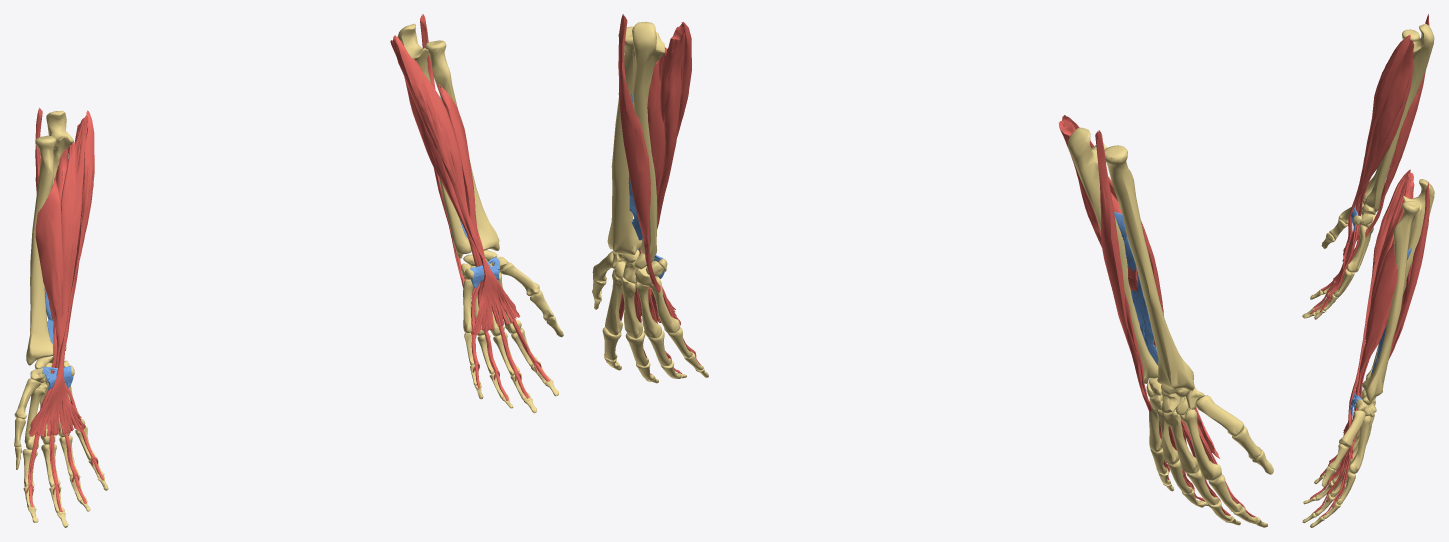
3 views of the same model, side by side, from view 1: azimuth 30°, elevation 25°; view 2: azimuth 150°, elevation 25°; view 3: azimuth 270°, elevation 25° (orthographic). The views are drawn at different scales.
Visible parts, largest first — view 1: wrist-hand:finger-flexors:isa:FJ1475, wrist-hand:palmaris-longus:isa:FJ1502M, wrist-hand:finger-flexors:isa:FJ1475M, wrist-hand:palmaris-longus:isa:FJ1502, wrist-hand:radius:isa:FJ3349, wrist-hand:finger-flexors:isa:FJ1499, wrist-hand:radius:isa:FJ3277, elbow-forearm:ulna:isa:FJ3286, wrist-hand:finger-flexors:isa:FJ1499M, wrist-hand:finger-flexors:isa:FJ1497, wrist-hand:finger-flexors:isa:FJ1497M, elbow-forearm:ulna:isa:FJ3391; view 2: wrist-hand:radius:isa:FJ3349, wrist-hand:extensor-carpi-ulnaris:isa:FJ1472M, elbow-forearm:ulna:isa:FJ3286, wrist-hand:radius:isa:FJ3277, wrist-hand:finger-flexors:isa:FJ1475M, elbow-forearm:ulna:isa:FJ3391, wrist-hand:extensor-carpi-ulnaris:isa:FJ1472, wrist-hand:finger-flexors:isa:FJ1497M, supplemental:interosseous-membrane-of-forearm:isa:FJ1476, wrist-hand:finger-flexors:isa:FJ1475, wrist-hand:palmaris-longus:isa:FJ1502M, wrist-hand:finger-flexors:isa:FJ1497 (+4 smaller); view 3: wrist-hand:radius:isa:FJ3277, wrist-hand:finger-flexors:isa:FJ1475, elbow-forearm:ulna:isa:FJ3391, wrist-hand:finger-flexors:isa:FJ1499M, wrist-hand:palmaris-longus:isa:FJ1502, wrist-hand:finger-flexors:isa:FJ1475M, wrist-hand:palmaris-longus:isa:FJ1502M, wrist-hand:finger-flexors:isa:FJ1497, elbow-forearm:ulna:isa:FJ3286, wrist-hand:extensor-carpi-ulnaris:isa:FJ1472, wrist-hand:extensor-carpi-ulnaris:isa:FJ1472M, wrist-hand:finger-flexors:isa:FJ1497M (+10 smaller).
Part boxes in pixels (<box>): wrist-hand:finger-flexors:isa:FJ1475: <box>25,114,98,498</box>; wrist-hand:palmaris-longus:isa:FJ1502M: <box>393,35,520,335</box>; wrist-hand:finger-flexors:isa:FJ1475M: <box>390,36,541,381</box>; wrist-hand:palmaris-longus:isa:FJ1502: <box>28,110,94,436</box>; wrist-hand:radius:isa:FJ3349: <box>26,135,56,365</box>; wrist-hand:finger-flexors:isa:FJ1499: <box>35,177,63,357</box>; wrist-hand:radius:isa:FJ3277: <box>425,40,499,250</box>; elbow-forearm:ulna:isa:FJ3286: <box>397,23,471,258</box>; wrist-hand:finger-flexors:isa:FJ1499M: <box>436,84,478,240</box>; wrist-hand:finger-flexors:isa:FJ1497: <box>28,147,103,512</box>; wrist-hand:finger-flexors:isa:FJ1497M: <box>420,67,550,400</box>; elbow-forearm:ulna:isa:FJ3391: <box>46,110,73,350</box>; wrist-hand:radius:isa:FJ3349: <box>1104,145,1194,390</box>; wrist-hand:extensor-carpi-ulnaris:isa:FJ1472M: <box>618,14,660,292</box>; elbow-forearm:ulna:isa:FJ3286: <box>632,21,665,262</box>; wrist-hand:radius:isa:FJ3277: <box>607,26,641,254</box>; wrist-hand:finger-flexors:isa:FJ1475M: <box>606,23,696,362</box>; elbow-forearm:ulna:isa:FJ3391: <box>1068,127,1158,383</box>; wrist-hand:extensor-carpi-ulnaris:isa:FJ1472: <box>1095,130,1152,412</box>; wrist-hand:finger-flexors:isa:FJ1497M: <box>615,57,701,374</box>; supplemental:interosseous-membrane-of-forearm:isa:FJ1476: <box>1114,212,1158,365</box>; wrist-hand:finger-flexors:isa:FJ1475: <box>1058,115,1247,518</box>; wrist-hand:palmaris-longus:isa:FJ1502M: <box>619,22,691,325</box>; wrist-hand:finger-flexors:isa:FJ1497: <box>1099,192,1255,517</box>; wrist-hand:radius:isa:FJ3277: <box>1362,201,1419,401</box>; wrist-hand:finger-flexors:isa:FJ1475: <box>1326,35,1414,301</box>; elbow-forearm:ulna:isa:FJ3391: <box>1365,24,1434,212</box>; wrist-hand:finger-flexors:isa:FJ1499M: <box>1360,244,1397,385</box>; wrist-hand:palmaris-longus:isa:FJ1502: <box>1342,35,1410,269</box>; wrist-hand:finger-flexors:isa:FJ1475M: <box>1326,171,1414,512</box>; wrist-hand:palmaris-longus:isa:FJ1502M: <box>1343,169,1410,460</box>; wrist-hand:finger-flexors:isa:FJ1497: <box>1310,59,1413,314</box>; elbow-forearm:ulna:isa:FJ3286: <box>1365,179,1434,379</box>; wrist-hand:extensor-carpi-ulnaris:isa:FJ1472: <box>1365,14,1429,237</box>; wrist-hand:extensor-carpi-ulnaris:isa:FJ1472M: <box>1388,182,1429,359</box>; wrist-hand:finger-flexors:isa:FJ1497M: <box>1310,295,1392,516</box>.
Size of the model in its own units: 0.6478 by 0.4058 by 0.1509.
